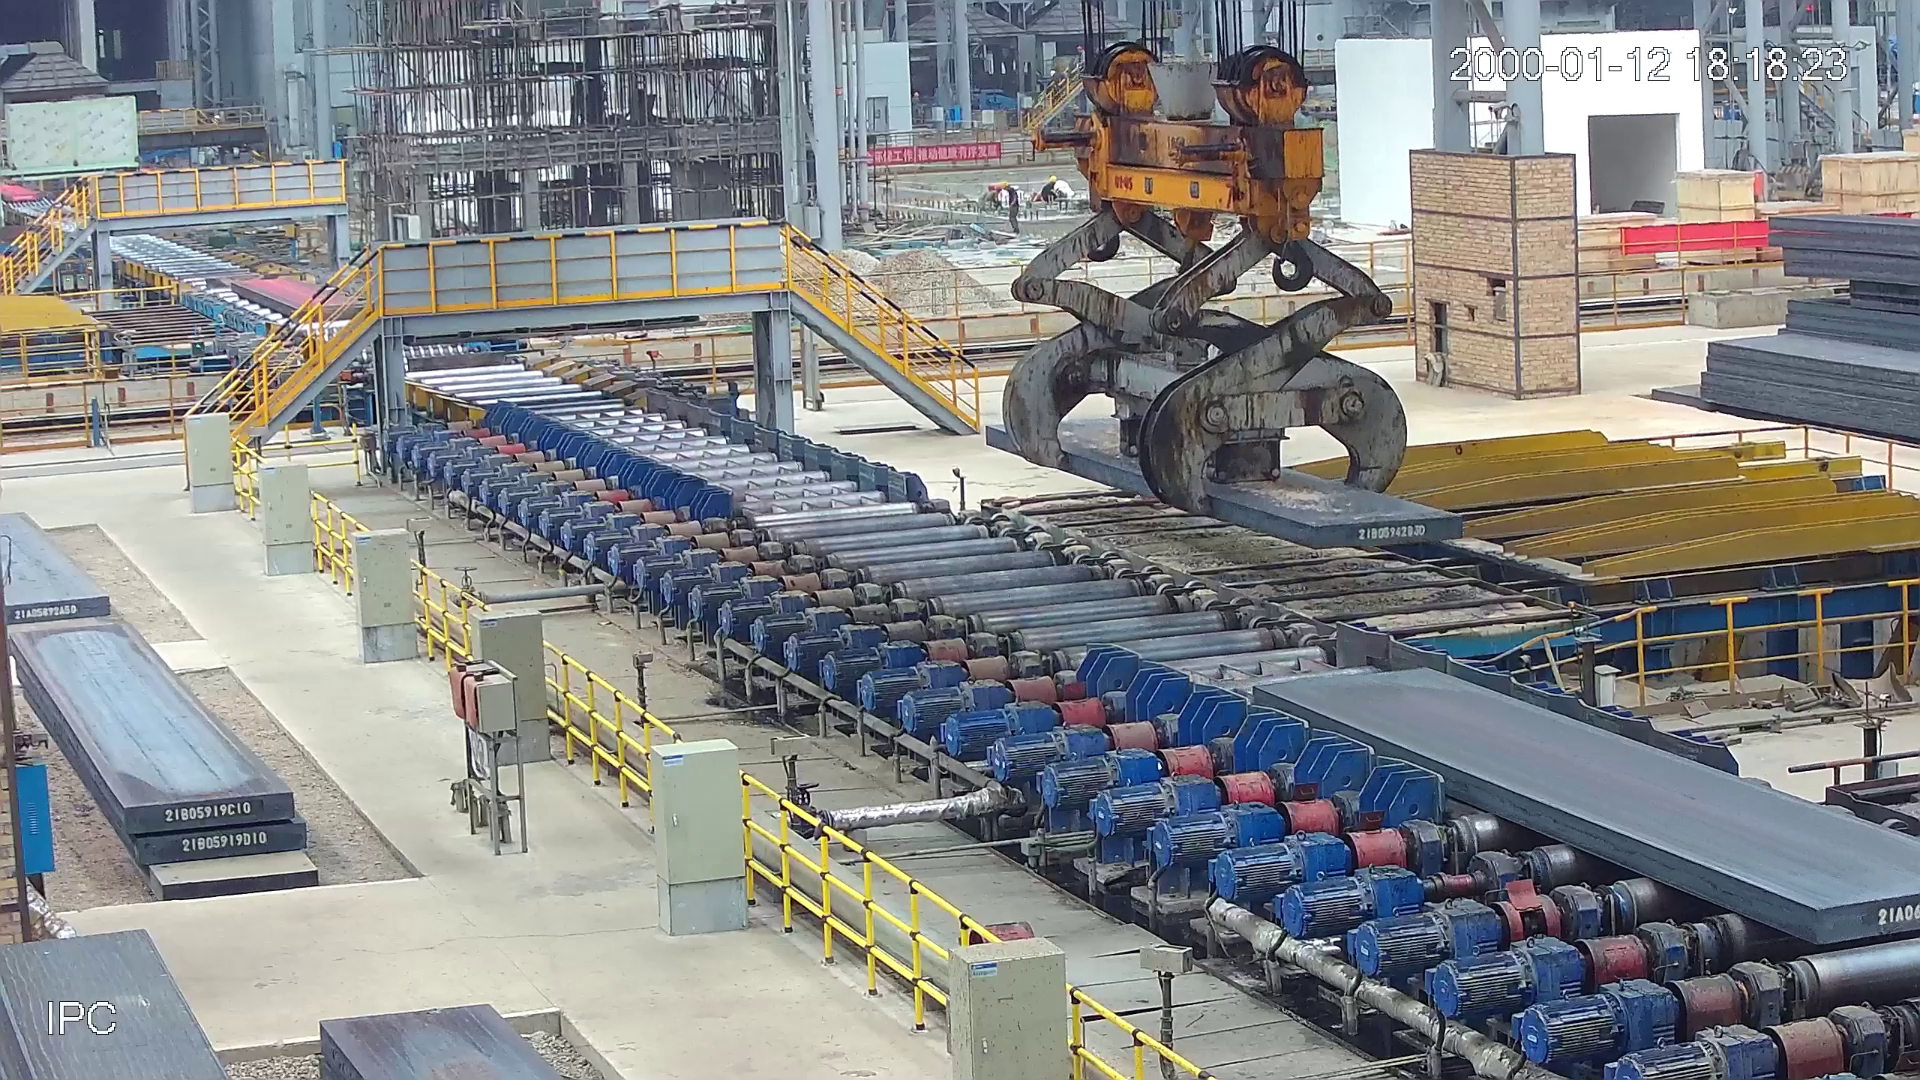craneandslab: (982, 40, 1468, 559)
slab: (1242, 658, 1920, 956), (225, 274, 371, 320)
